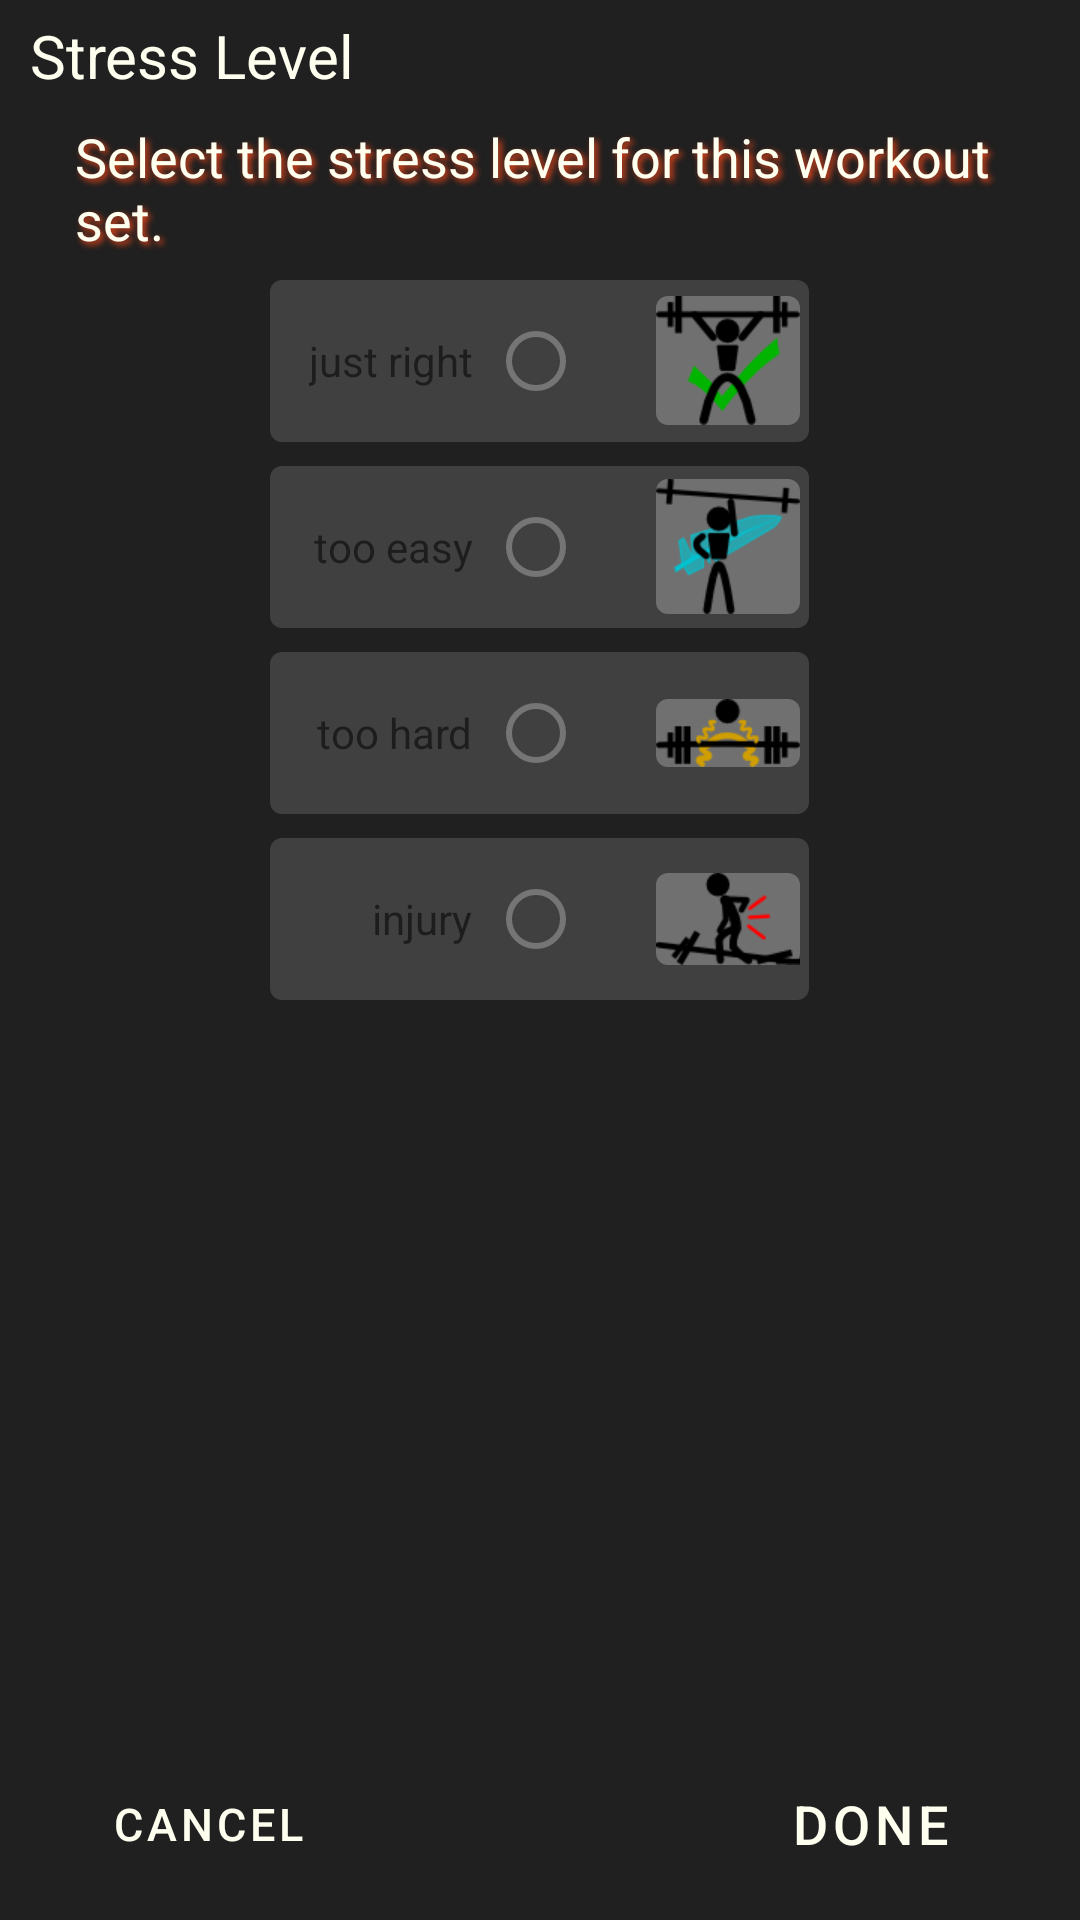

Named icons in this screenshot (1080w x 1920h) and their bounding boxes, bbox=(x1, y1, x2, y2):
stress injury: bbox=(656, 873, 800, 965)
stress just right: bbox=(656, 296, 800, 425)
stress too easy: bbox=(656, 479, 800, 614)
stress too heavy: bbox=(656, 699, 800, 767)
